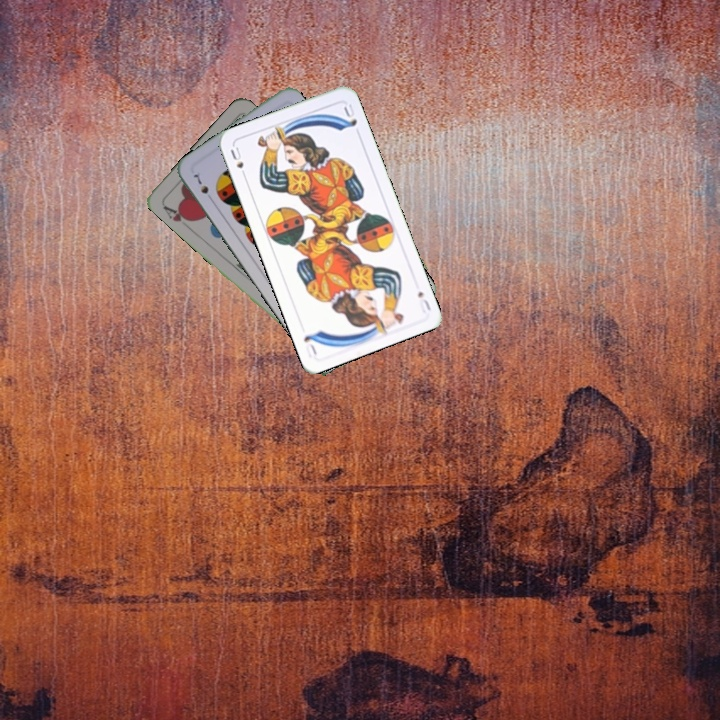HA: (159, 201, 196, 224)
S7: (189, 170, 216, 204)
SU: (226, 143, 249, 181), (413, 287, 433, 315)
